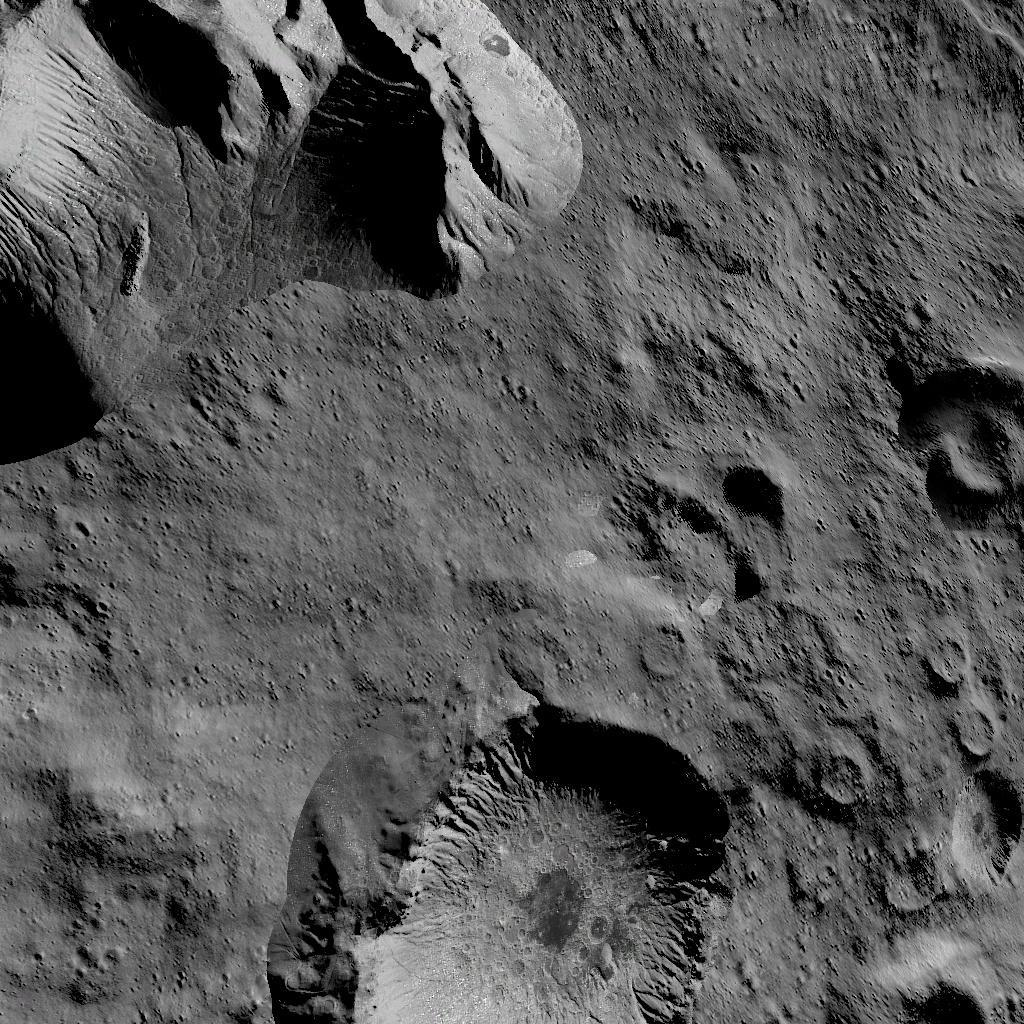Boulders: (0, 0, 580, 444)
Crater: (239, 698, 717, 1024), (916, 632, 1024, 880), (885, 362, 1024, 521), (640, 460, 792, 604), (812, 928, 994, 1024), (632, 617, 693, 681), (808, 748, 870, 810)
Plan surface: (3, 454, 589, 688), (595, 0, 861, 438), (3, 696, 226, 1020)
